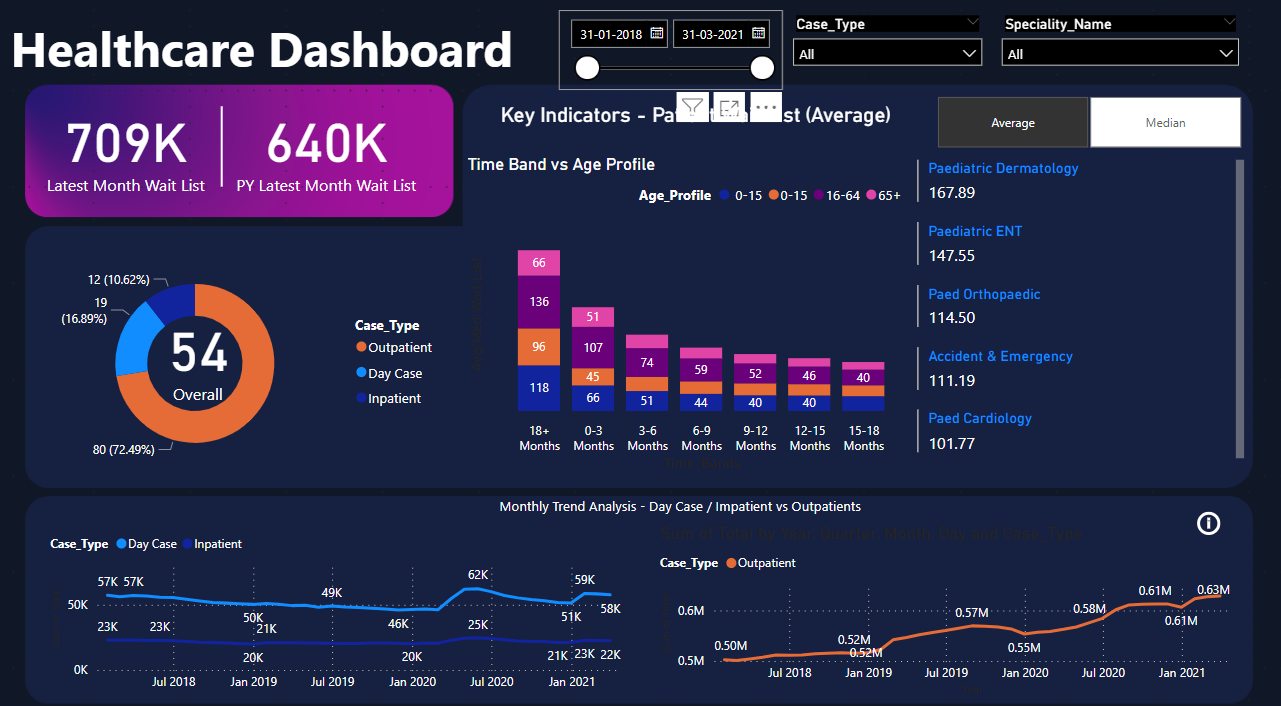

This screenshot's page, from the dashboard's own definition file:
{"tool":"powerbi","page":{"name":"Summary ","canvas":[1280,720],"ordinal":0},"visuals":[{"type":"card","fields":{"Values":["All_Data.Latest Month Wait List"]},"box":[32,96,192,112],"z":0},{"type":"card","fields":{"Values":["All_Data.PY Latest Month Wait List"]},"box":[224,96,208,112],"z":1000},{"type":"slicer","fields":{"Values":["Calculation Method.Calc Method"]},"box":[912,96,352,64],"z":2000},{"type":"donutChart","fields":{"Category":["All_Data.Case_Type"],"Y":["All_Data.Avg/Med Wait List"]},"box":[32,256,416,224],"z":3000},{"type":"columnChart","title":"Time Band vs Age Profile","fields":{"Y":["All_Data.Avg/Med Wait List"],"Category":["All_Data.Time_Bands"],"Series":["All_Data.Age_Profile"]},"box":[464,160,448,320],"z":4000},{"type":"multiRowCard","fields":{"Values":["All_Data.Avg/Med Wait List","All_Data.Speciality_Name"]},"box":[912,160,336,320],"z":5000},{"type":"lineChart","fields":{"Y":["Sum(All_Data.Total)"],"Series":["All_Data.Case_Type"],"Category":["All_Data.Archive_Date.Variation.Date Hierarchy.Year","All_Data.Archive_Date.Variation.Date Hierarchy.Quarter","All_Data.Archive_Date.Variation.Date Hierarchy.Month","All_Data.Archive_Date.Variation.Date Hierarchy.Day"]},"box":[656,528,592,176],"z":6000},{"type":"card","fields":{"Values":["All_Data.NoData Left"]},"box":[128,544,368,144],"z":7000},{"type":"card","fields":{"Values":["All_Data.No Data Right"]},"box":[848,528,288,192],"z":8000},{"type":"lineChart","fields":{"Y":["Sum(All_Data.Total)"],"Series":["All_Data.Case_Type"],"Category":["All_Data.Archive_Date.Variation.Date Hierarchy.Year","All_Data.Archive_Date.Variation.Date Hierarchy.Quarter","All_Data.Archive_Date.Variation.Date Hierarchy.Month","All_Data.Archive_Date.Variation.Date Hierarchy.Day"]},"box":[48,528,592,176],"z":9000},{"type":"slicer","fields":{"Values":["All_Data.Archive_Date"]},"box":[560,16,224,80],"z":10000},{"type":"slicer","fields":{"Values":["All_Data.Case_Type"]},"box":[784,16,208,64],"z":11000},{"type":"slicer","fields":{"Values":["All_Data.Speciality_Name"]},"box":[992,16,256,64],"z":12000},{"type":"textbox","box":[32,0,240,80],"z":13000},{"type":"card","fields":{"Values":["All_Data.Avg/Med Wait List"]},"box":[160,304,80,112],"z":14000},{"type":"shape","box":[160,112,128,80],"z":15000},{"type":"card","fields":{"Values":["All_Data.Dynamic Title"]},"box":[464,96,464,48],"z":16000},{"type":"textbox","box":[496,496,416,32],"z":17000},{"type":"actionButton","box":[1184,512,48,32],"z":18000}]}

Visuals, with their boxes in screenshot pixels (x1, y1, x2, y2), scaled from the page's 1280x720 canvas onto the 1281x706 screenshot:
card - All_Data.Latest Month Wait List: box(32, 94, 224, 204)
card - All_Data.PY Latest Month Wait List: box(224, 94, 432, 204)
slicer - Calculation Method.Calc Method: box(913, 94, 1265, 157)
donutChart - All_Data.Case_Type x All_Data.Avg/Med Wait List: box(32, 251, 448, 471)
"Time Band vs Age Profile" columnChart: box(464, 157, 913, 471)
multiRowCard - All_Data.Avg/Med Wait List x All_Data.Speciality_Name: box(913, 157, 1249, 471)
lineChart - Sum(All_Data.Total) x All_Data.Case_Type: box(657, 518, 1249, 690)
card - All_Data.NoData Left: box(128, 533, 496, 675)
card - All_Data.No Data Right: box(849, 518, 1137, 705)
lineChart - Sum(All_Data.Total) x All_Data.Case_Type: box(48, 518, 640, 690)
slicer - All_Data.Archive_Date: box(560, 16, 785, 94)
slicer - All_Data.Case_Type: box(785, 16, 993, 78)
slicer - All_Data.Speciality_Name: box(993, 16, 1249, 78)
textbox: box(32, 0, 272, 78)
card - All_Data.Avg/Med Wait List: box(160, 298, 240, 408)
shape: box(160, 110, 288, 188)
card - All_Data.Dynamic Title: box(464, 94, 929, 141)
textbox: box(496, 486, 913, 518)
actionButton: box(1185, 502, 1233, 533)
